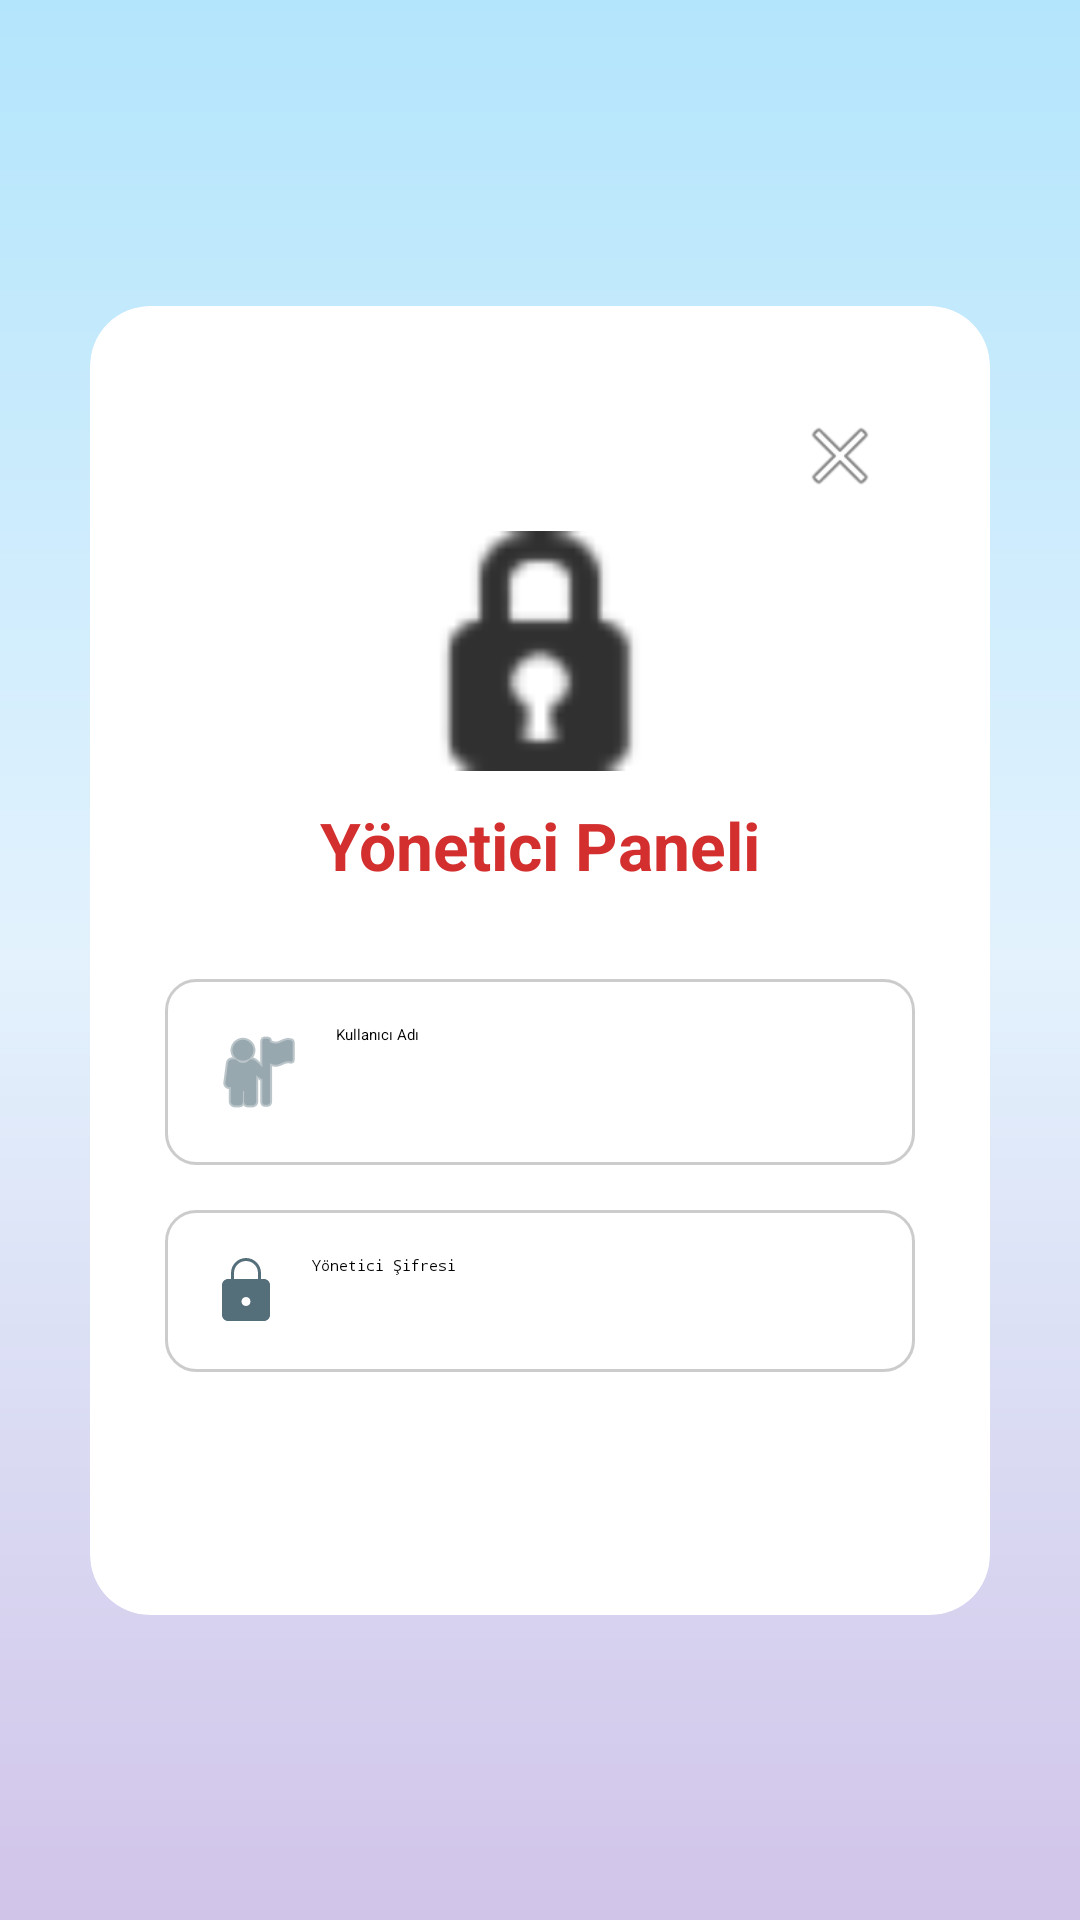

Named icons in this screenshot (1080 × 1920) and their centers, point (x, y):
Kapat: point (840, 456)
secure: point (539, 651)
